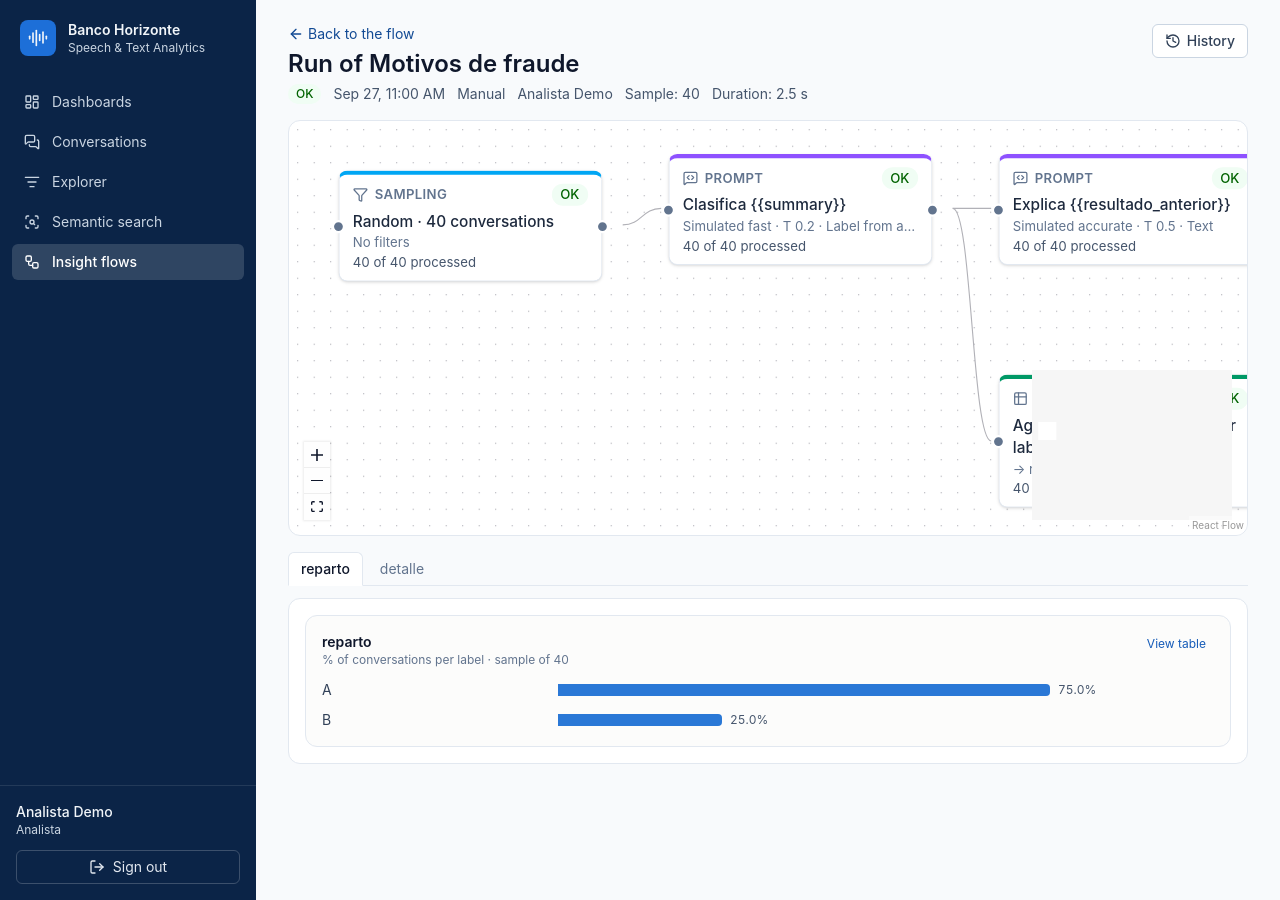
Test: Flujos de insights con la interfaz en inglés (FE016, T5) › ejecución: estado, métrica y tabla en inglés; resultados del flujo sin traducir
Expected: the heading "Run of Motivos de fraude" is shown, [288,49,580,78]
Expected: the text "Sample: 40" is shown, [625,84,700,104]
Click the tab "detalle" at x=402, y=569, box [367,552,437,586]
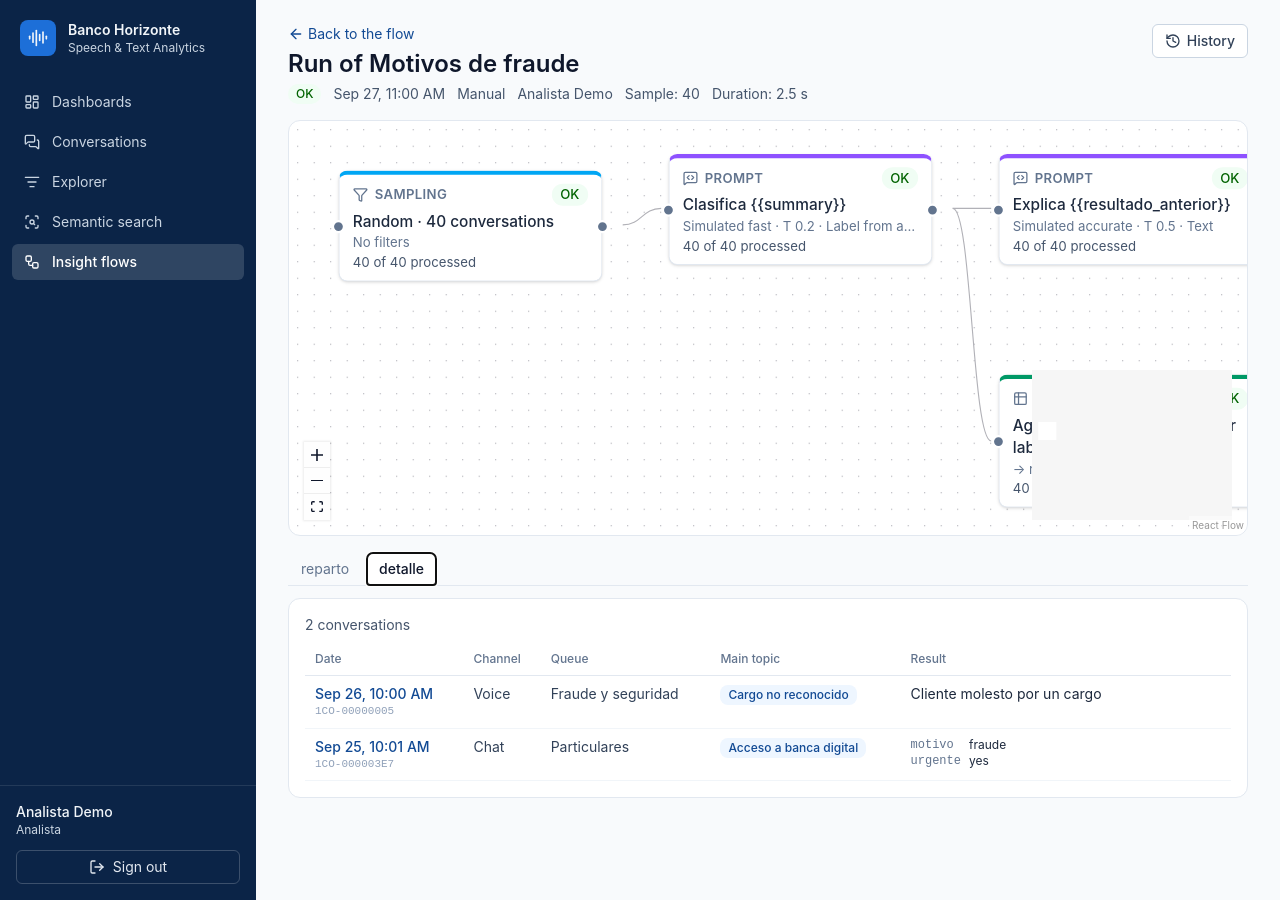
Expected: the column heading "Date" is shown, [305,643,463,676]
Expected: the column heading "Channel" is shown, [463,643,541,676]
Expected: the column heading "Queue" is shown, [541,643,710,676]
